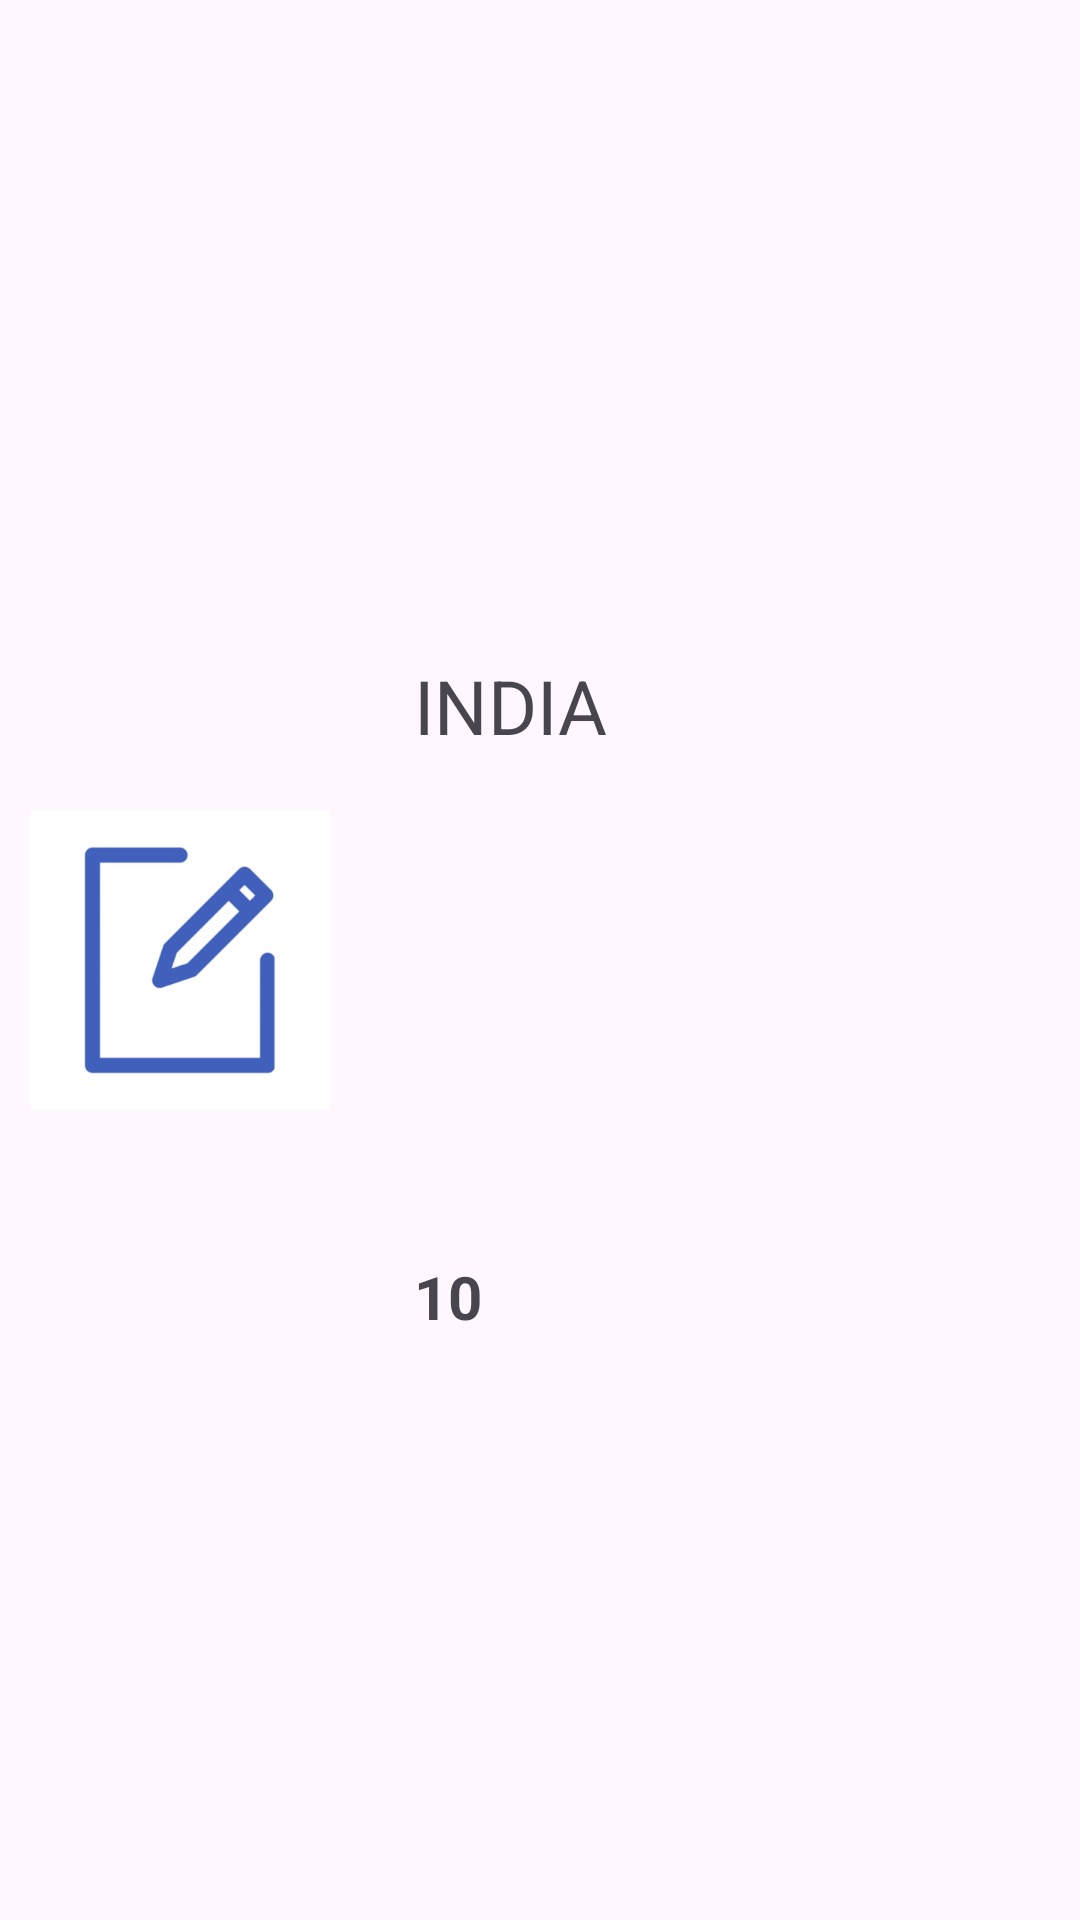

Screen size 1080×1920. Icon name, then its center in pixels as (x=x, y=y):
aiwriting: (x=179, y=960)
